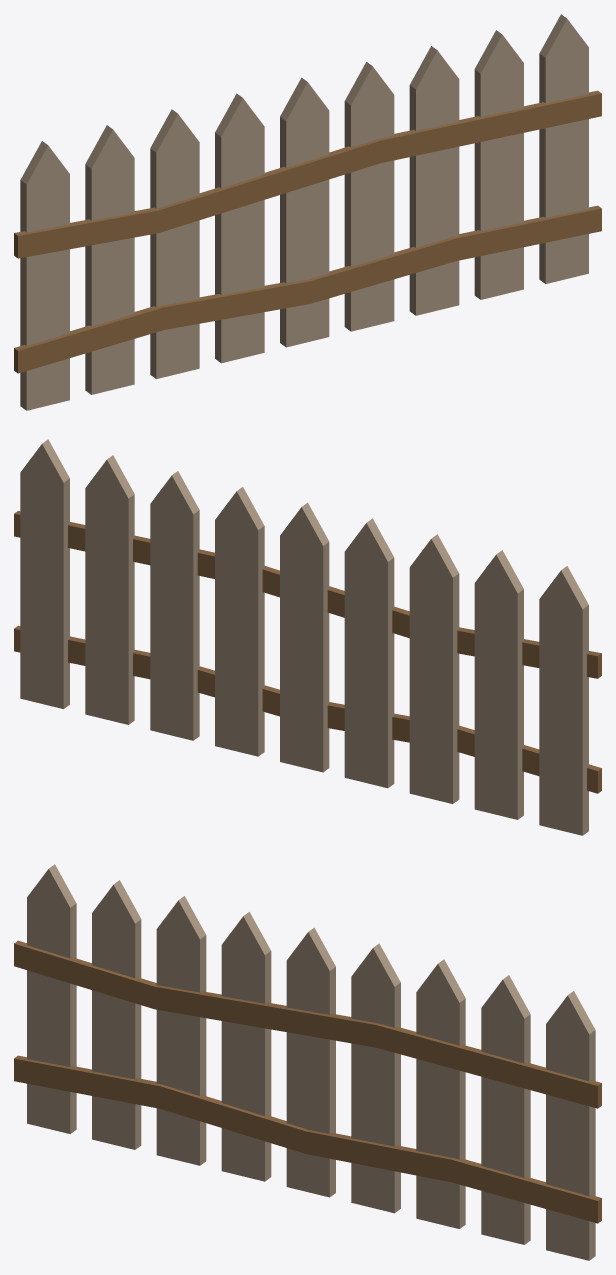
Rendered from Fence_1.fbx.
The picture shows the model from 3 angles, top to bottom: view 1: azimuth 30°, elevation 25°; view 2: azimuth 150°, elevation 25°; view 3: azimuth 330°, elevation 25°; orthographic projection.
Parts seen in each view (by area): view 1: Plane; view 2: Plane; view 3: Plane.
Boxes of the visible parts, <box> form: Plane: <box>14,14,601,410</box>; Plane: <box>14,439,601,835</box>; Plane: <box>14,864,601,1260</box>.
Size of the model in its own units: 5.4 by 2.3 by 0.1359.
